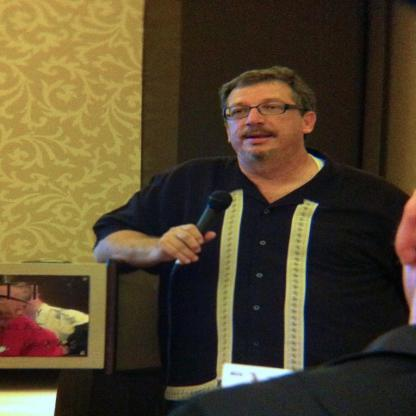Picture-frame: (1, 261, 108, 371)
